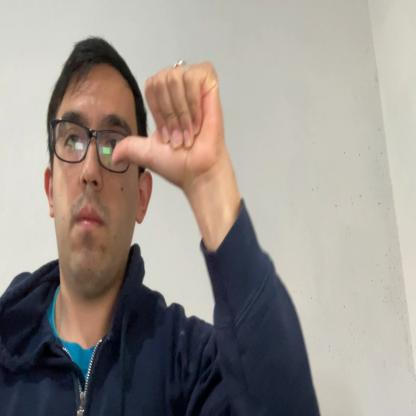A: (112, 61, 222, 182)
